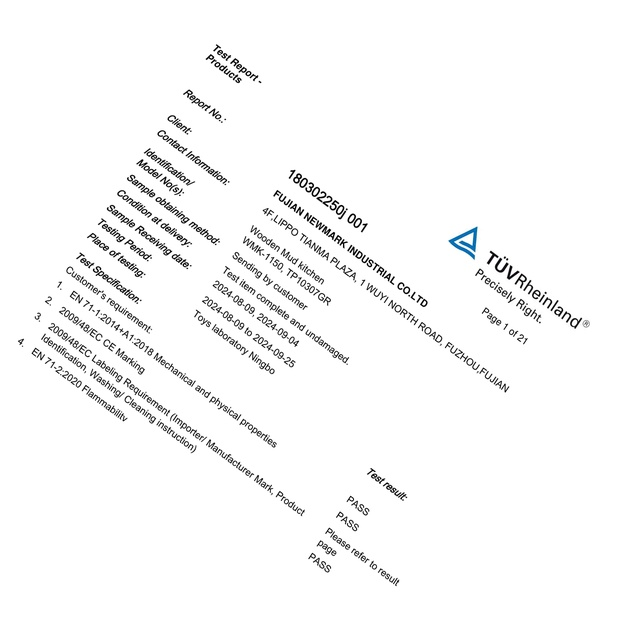tuv_rheinland: (442, 221, 589, 334)
